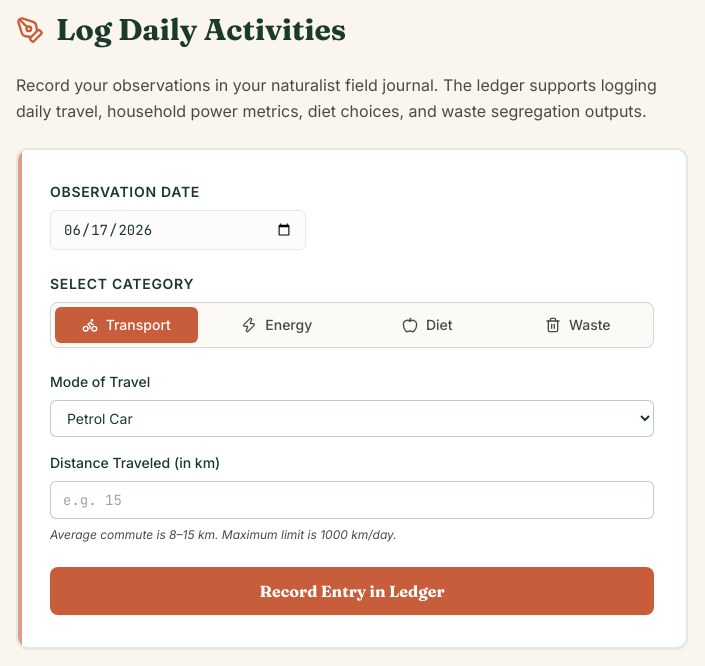
Test: Component Testing Suite › LogActivityView Form › displays validation error on negative distance in transport mode
The width and height of the screenshot is (705, 666).
Type "-20" into the number field labelled "Distance Traveled (in km)".
click(352, 500); type("-20")  # box [50,481,654,519]
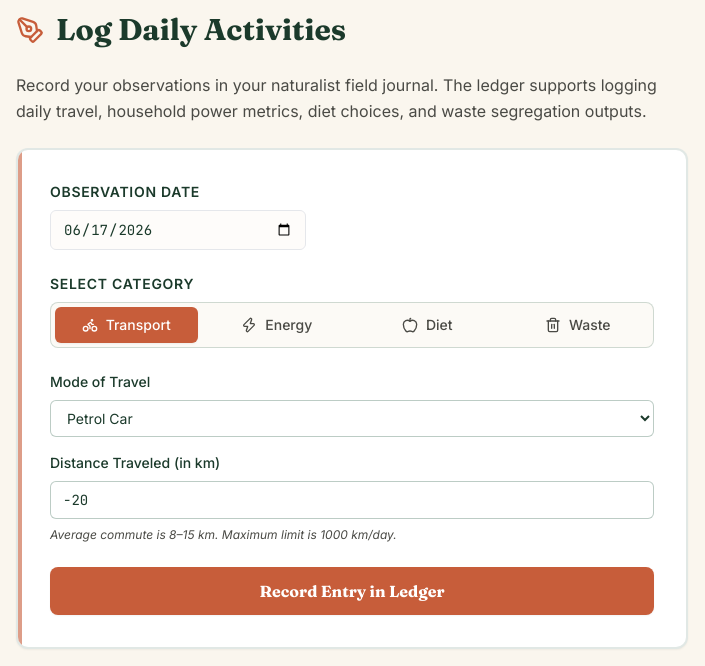
Submit the form named "Record Entry in Ledger", box [50,182,654,615]
Wait 500 ms
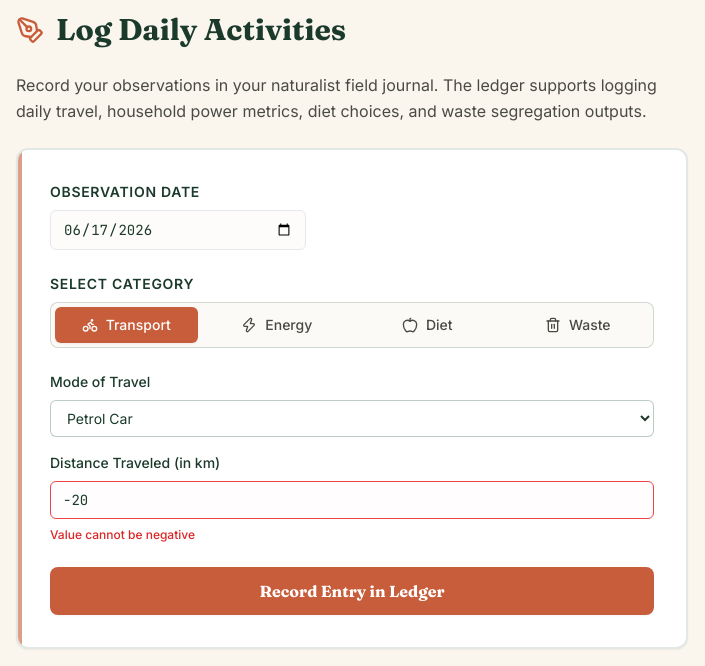
Expected: the text "Value cannot be negative" is shown, [50,527,195,542]
